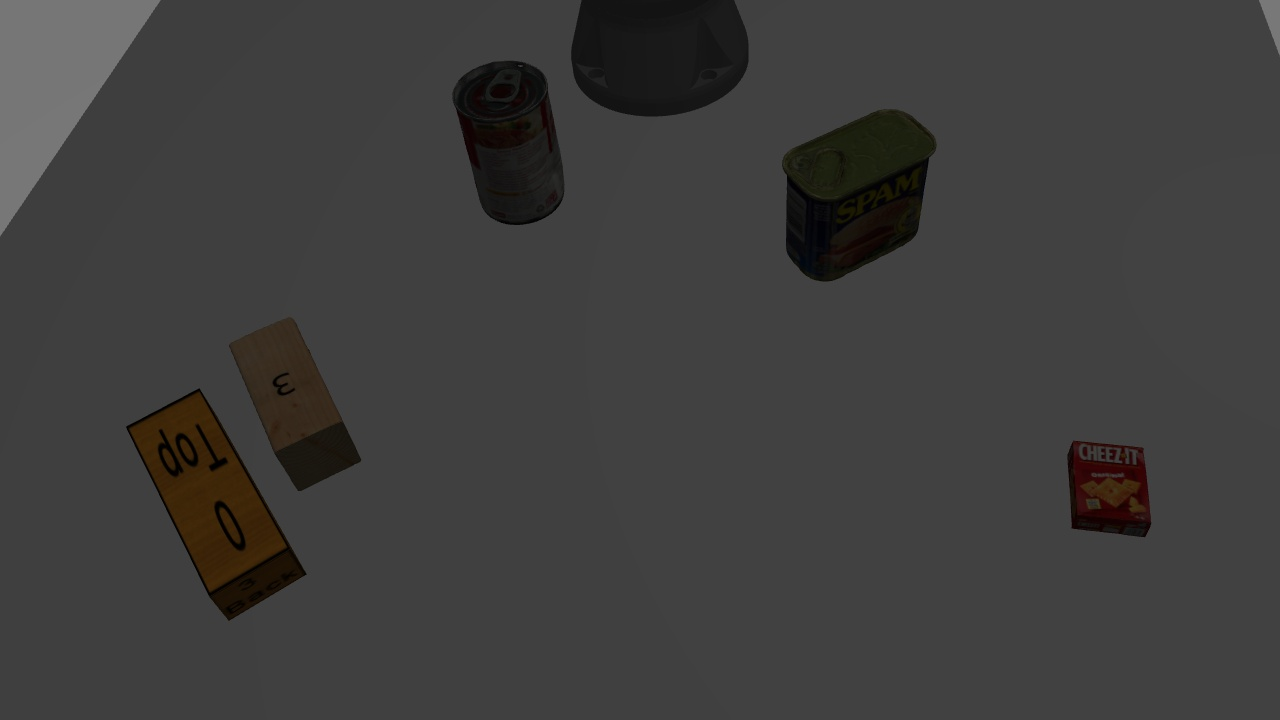cracker_box: (1062, 431, 1154, 543)
jenga: (121, 386, 309, 630)
potted_meat_can: (769, 105, 941, 282)
tomato_soup_can: (441, 56, 590, 228)
wood_block: (223, 316, 366, 497)
